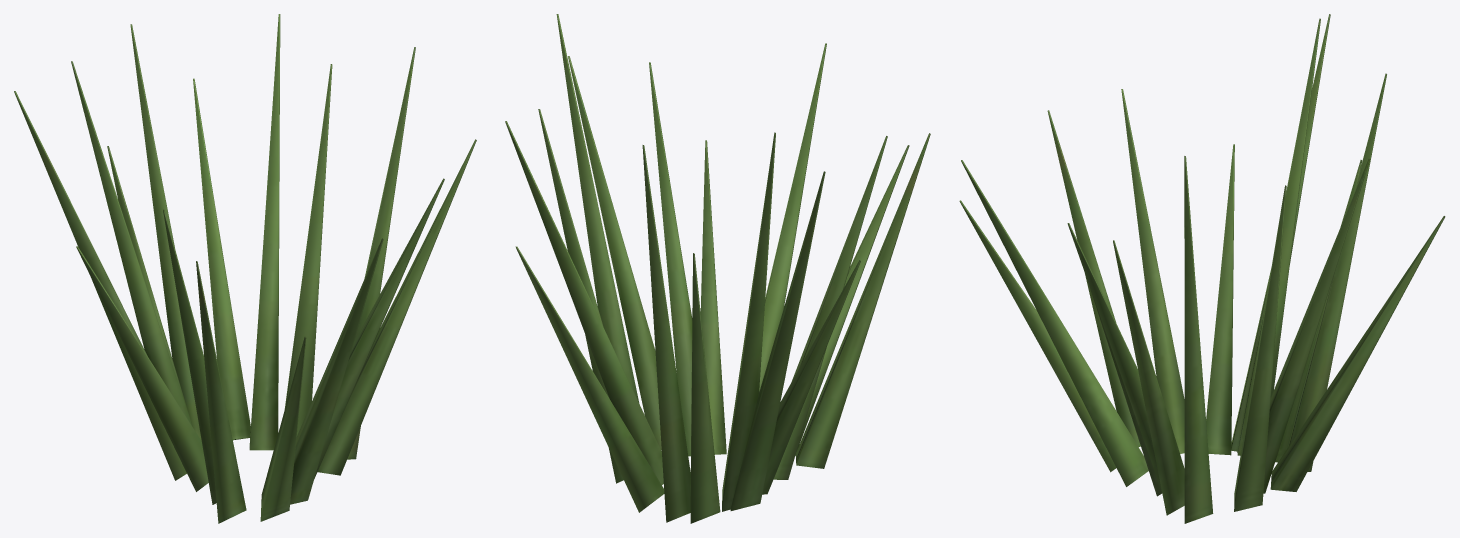
Rendered from grass_clump.glb.
The picture shows the model from 3 angles, left to right: view 1: azimuth 30°, elevation 25°; view 2: azimuth 150°, elevation 25°; view 3: azimuth 270°, elevation 25°; orthographic projection. The views are drawn at different scales.
Parts seen in each view (by area): view 1: grass_clump; view 2: grass_clump; view 3: grass_clump.
Boxes of the visible parts, bbox=[...] form: grass_clump: bbox=[14, 14, 476, 523]; grass_clump: bbox=[505, 14, 930, 523]; grass_clump: bbox=[959, 14, 1445, 523].
Size of the model in its own units: 0.7527 by 0.8244 by 0.897.
Materials: 1 (1 with a texture image).
